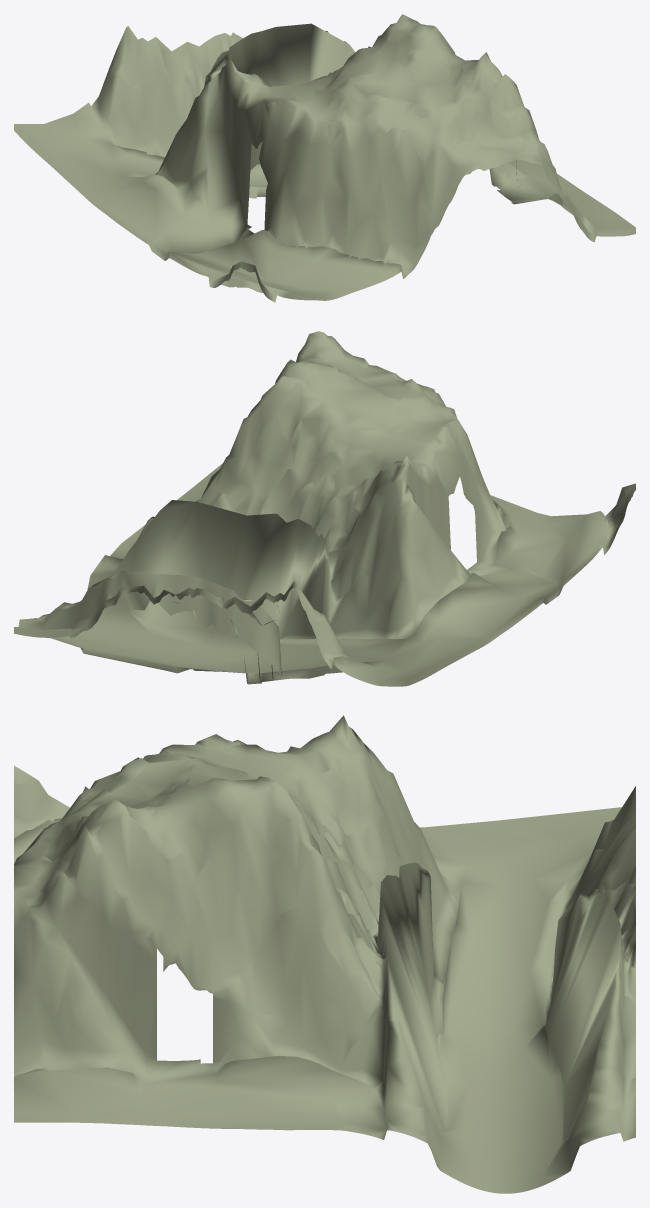
Rendered from terrain_r1_c1_lod1.glb.
The picture shows the model from 3 angles, top to bottom: view 1: azimuth 30°, elevation 25°; view 2: azimuth 150°, elevation 25°; view 3: azimuth 270°, elevation 25°; orthographic projection. The views are drawn at different scales.
Parts seen in each view (by area): view 1: terrain_r1_c1_lod1; view 2: terrain_r1_c1_lod1; view 3: terrain_r1_c1_lod1.
Boxes of the visible parts, bbox=[...] form: terrain_r1_c1_lod1: bbox=[14, 14, 635, 302]; terrain_r1_c1_lod1: bbox=[14, 331, 635, 686]; terrain_r1_c1_lod1: bbox=[14, 715, 635, 1193].
Bounding box in the file's own units: 50 × 28.57 × 50.
